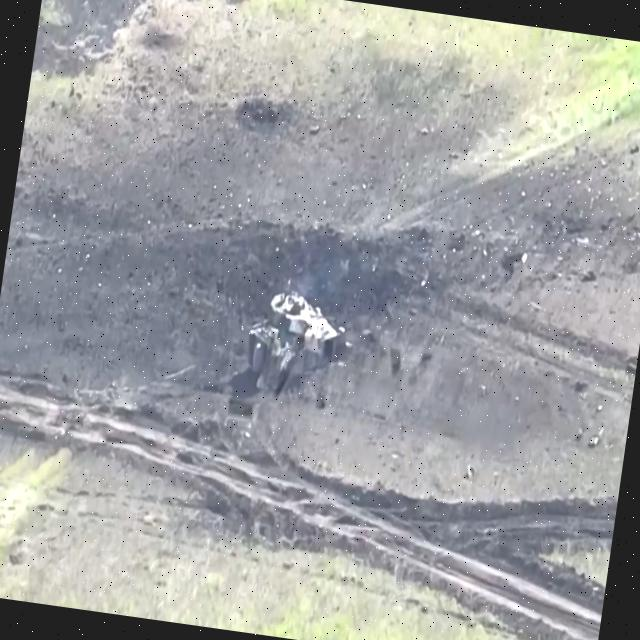AIFV: (242, 280, 357, 402)
